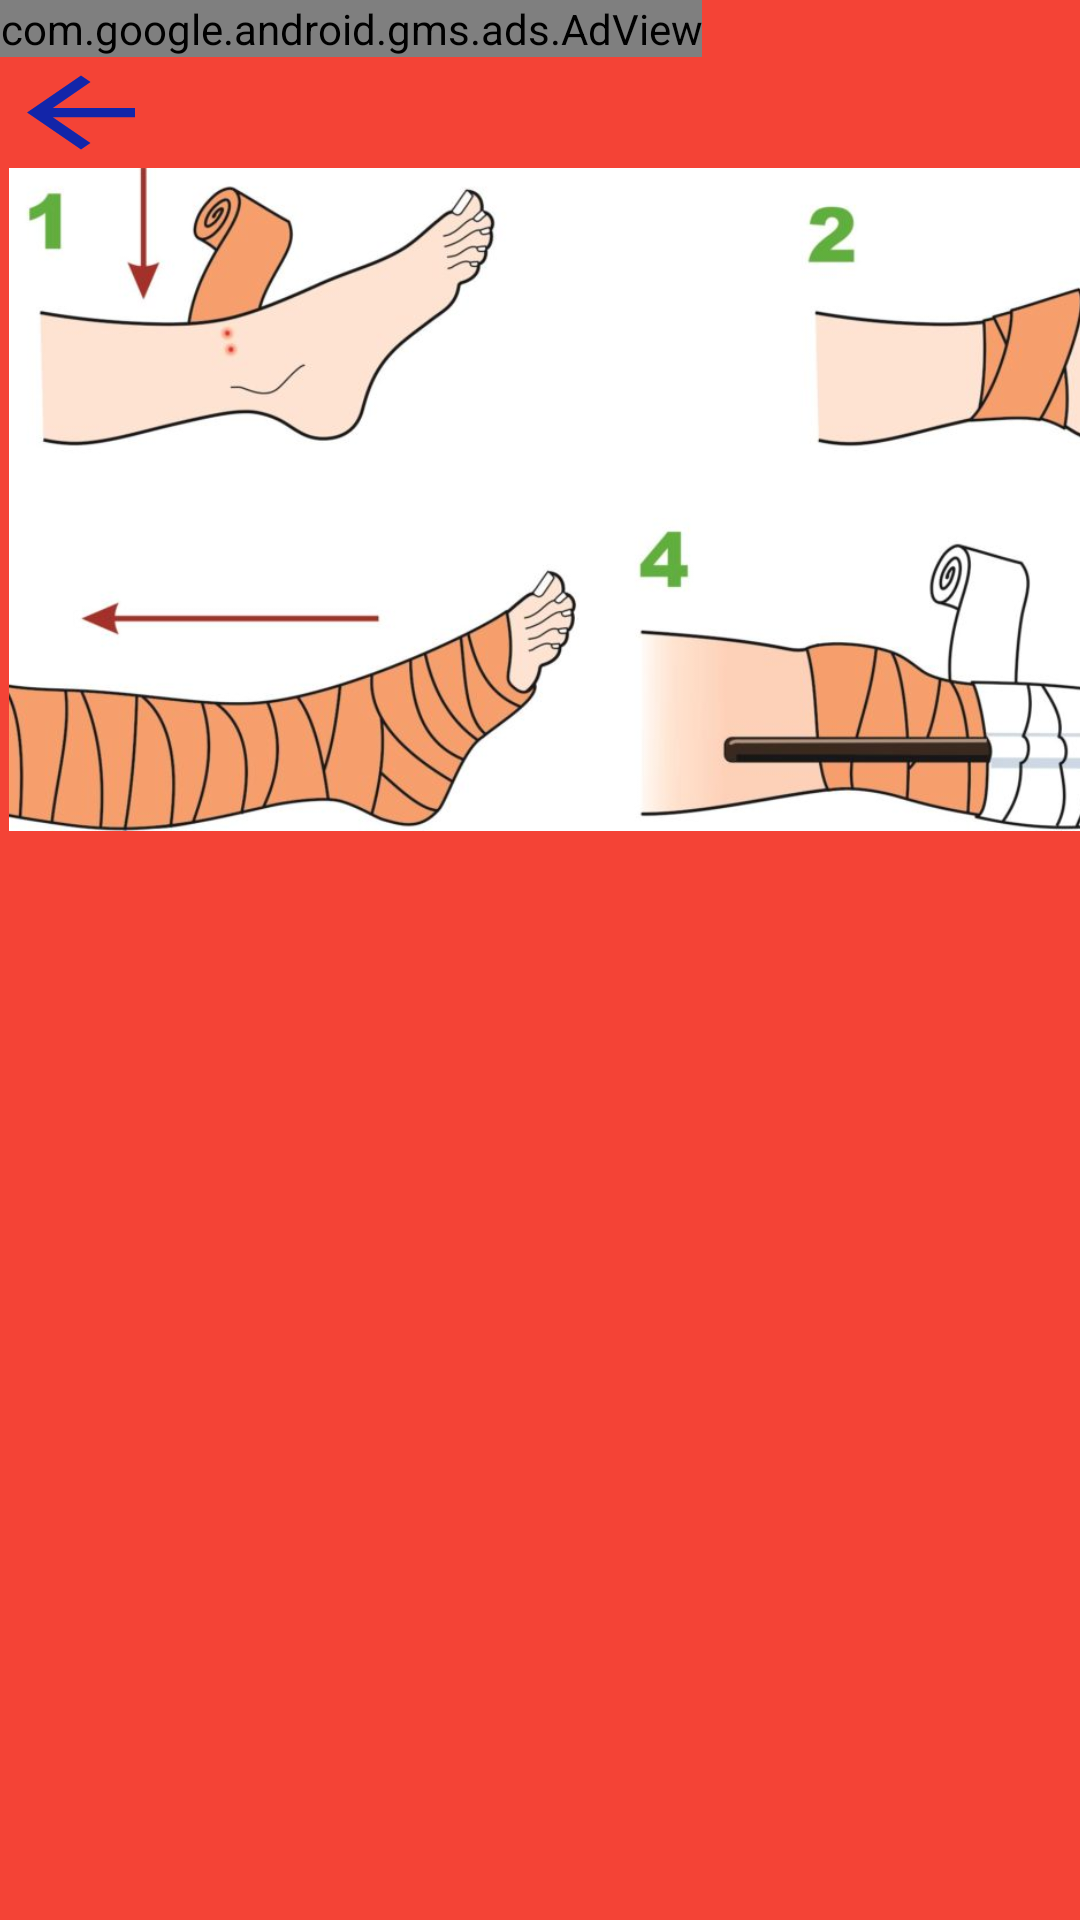

Screen size 1080×1920. Icon name, then its box in pixels as (x1, y1, x2, y2):
backarroww: (27, 75, 135, 150)
